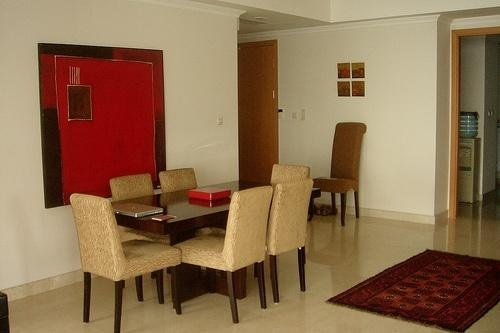chair: (67, 188, 183, 330), (173, 184, 274, 326), (307, 119, 376, 228), (268, 182, 316, 307), (108, 174, 160, 205), (156, 169, 202, 195), (269, 160, 314, 186)
diningtable: (102, 177, 324, 302)
